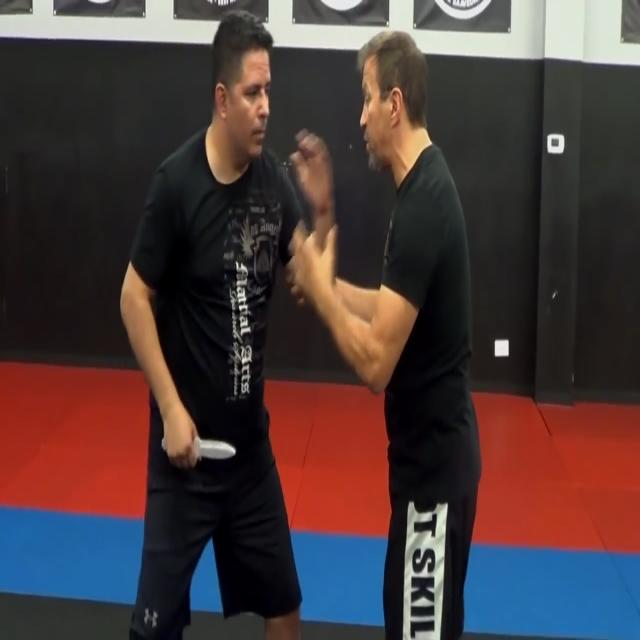knife: (196, 435, 240, 465)
